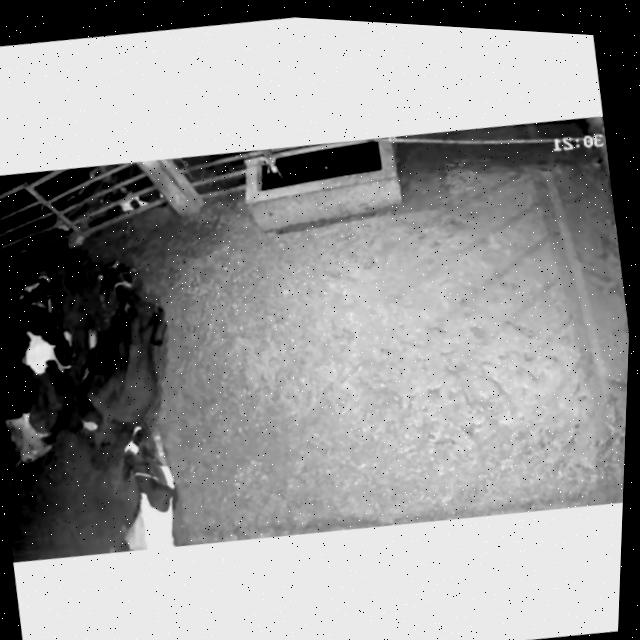lay: (47, 241, 204, 461), (0, 250, 92, 479), (86, 411, 200, 558)
